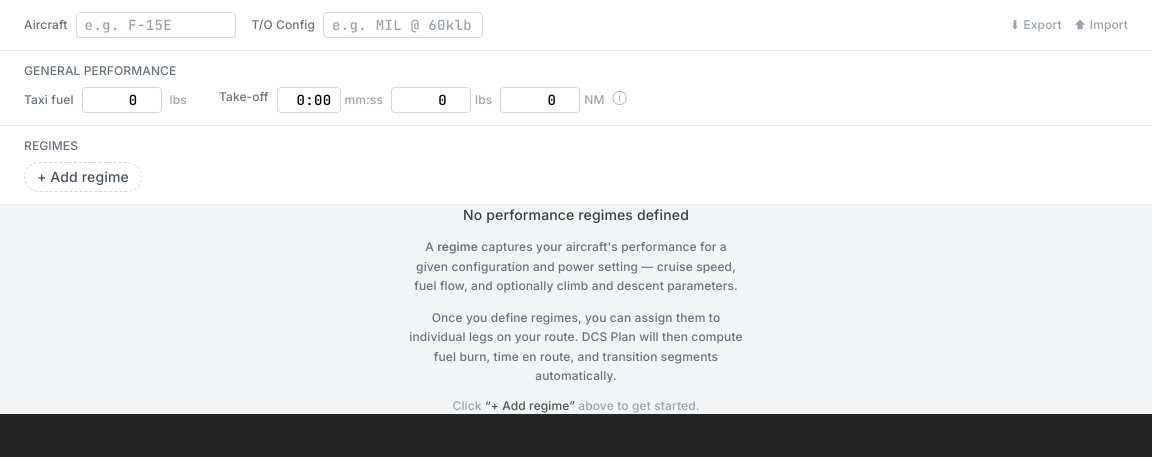
Scenario: PerformancePage › Aircraft header › T/O all-or-nothing: partial (only fuel positive) shows error and does not persist
The image size is (1152, 457).
Step 1. Replace the text in the 2nd number field with "250" → (431, 100), box left=391, top=87, right=471, bottom=113
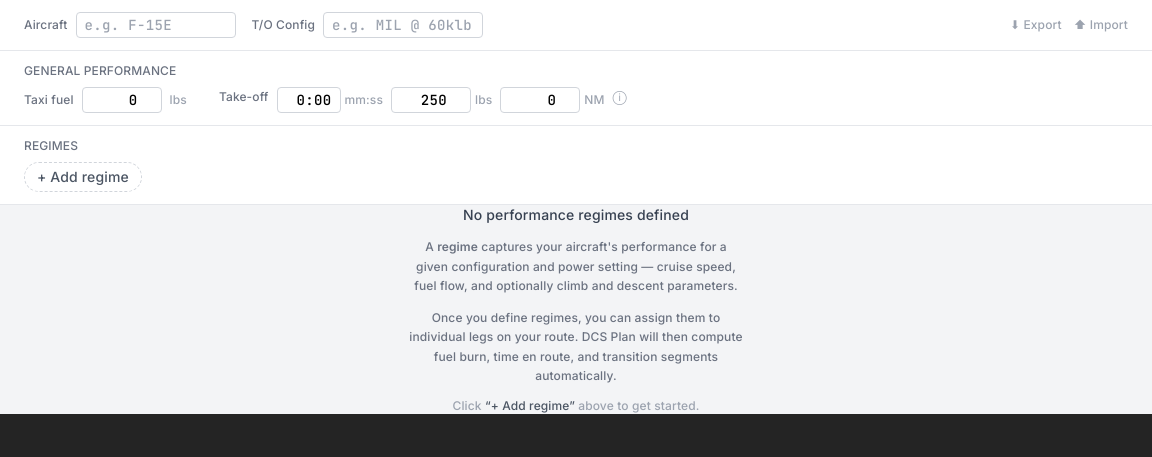
Step 2. Leave the 2nd number field, box left=391, top=87, right=471, bottom=113
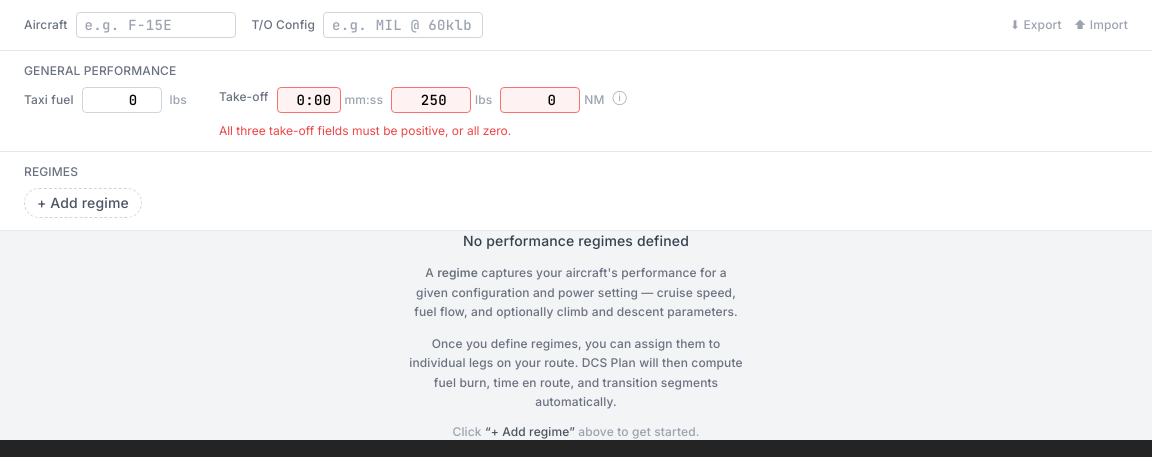
Check: the text "All three take-off fields must be positive, or all zero." is shown, box left=219, top=123, right=511, bottom=138
